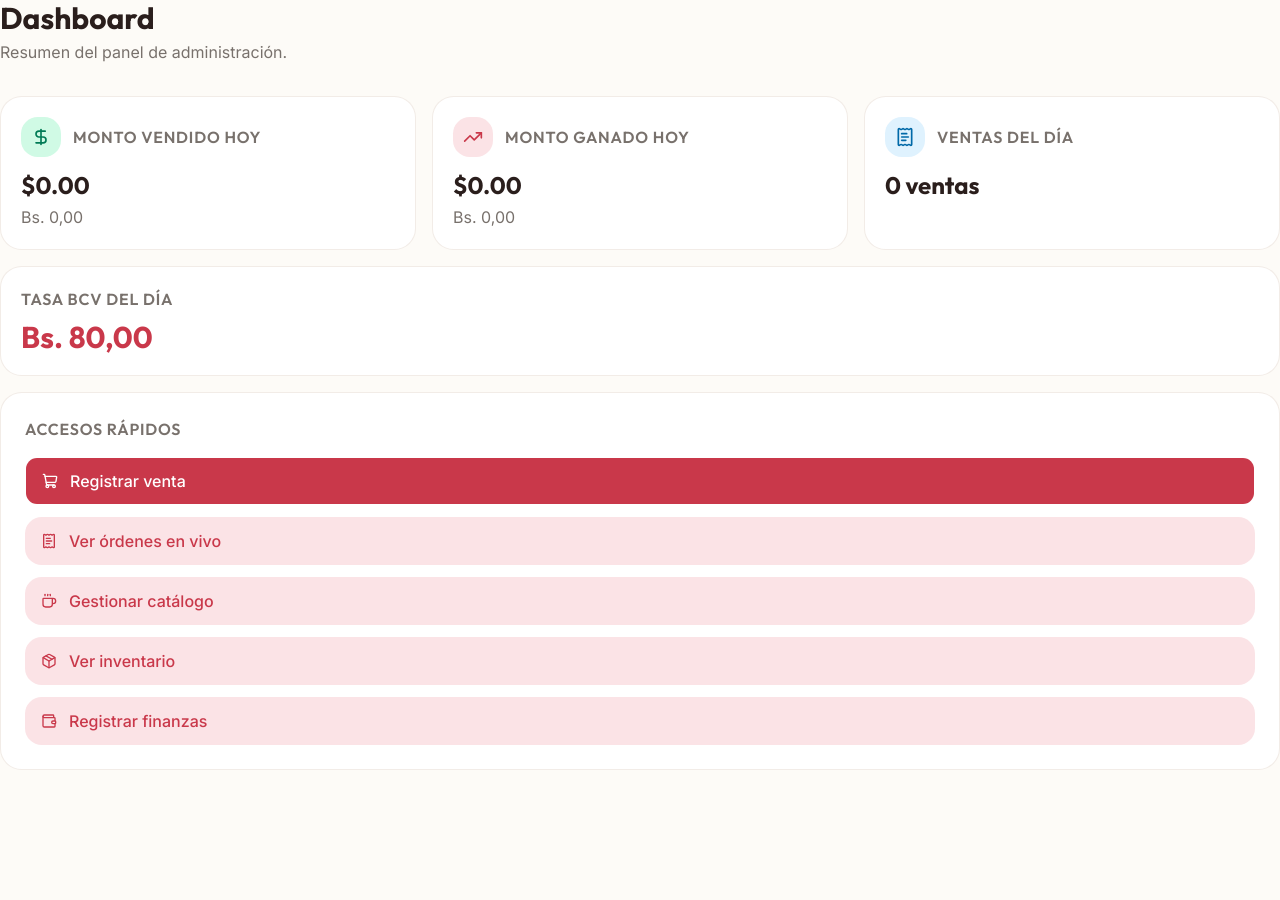
Test: DashboardCliente › abre el modal de registrar venta desde el acceso rápido
The image size is (1280, 900).
Step 1. Click the button "Registrar venta" → click(128, 481), box [25,457,1255,505]
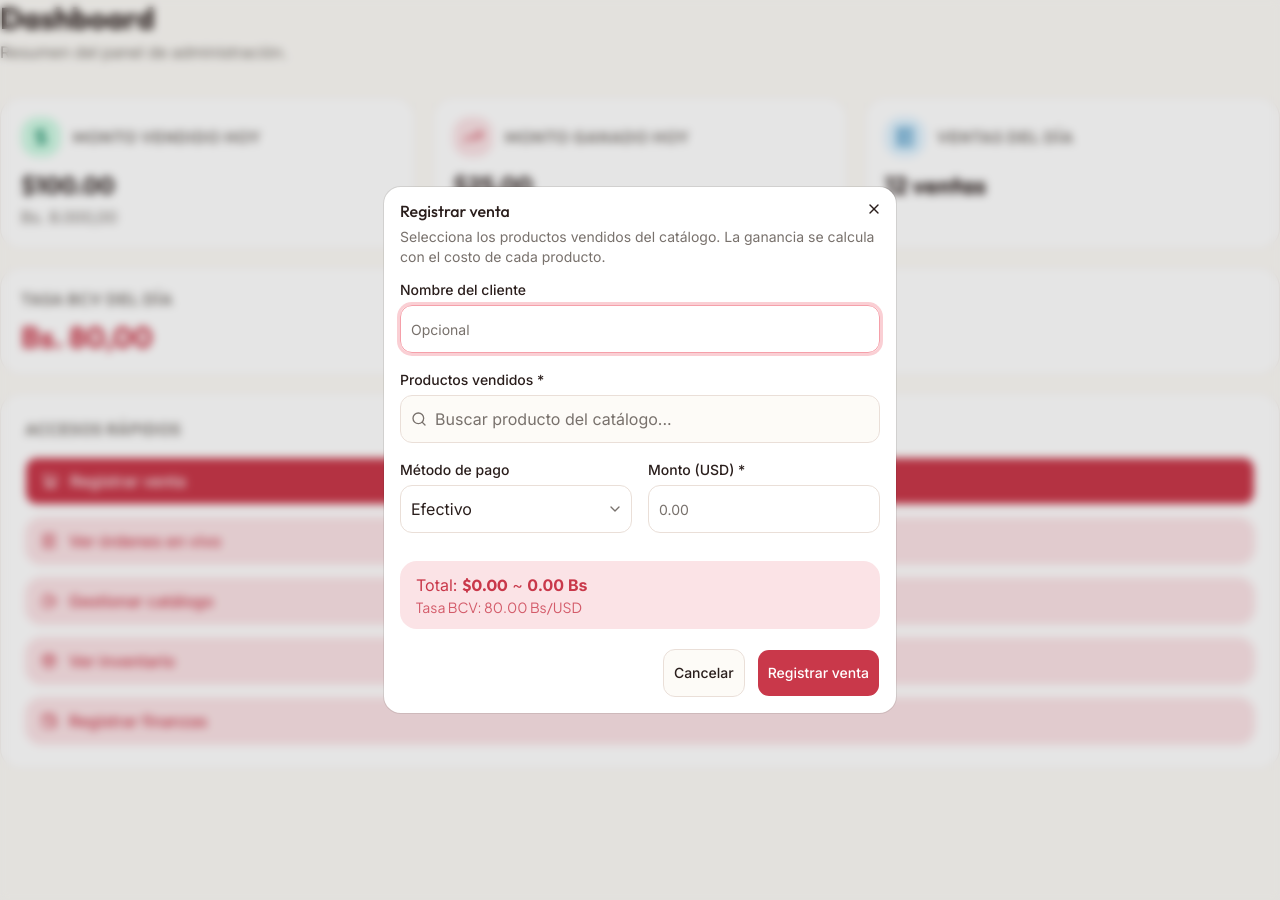
Expected: the dialog "Registrar venta" is shown, [384,187,896,713]
